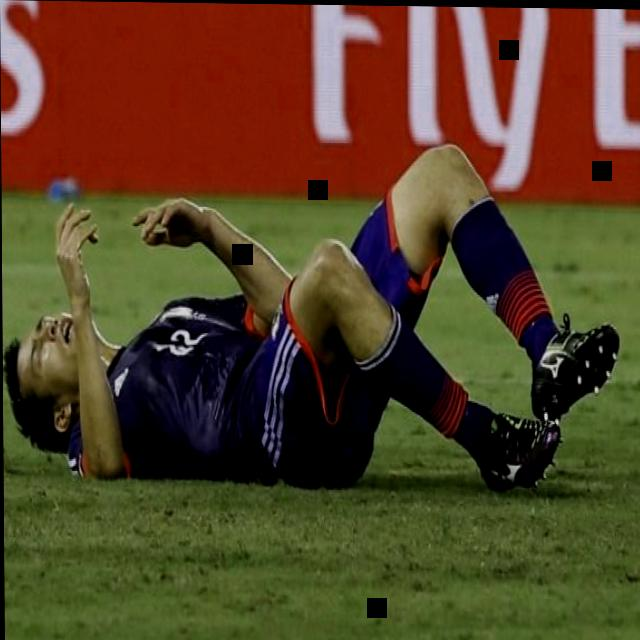Fall-Detected: (5, 111, 603, 492)
